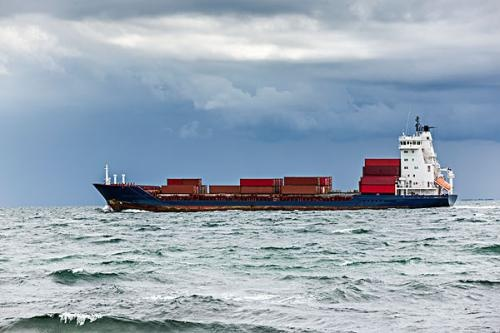Cargoship: (90, 114, 460, 208)
